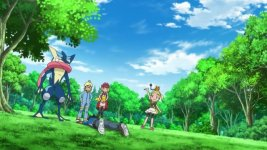greninja: (34, 44, 76, 126)
